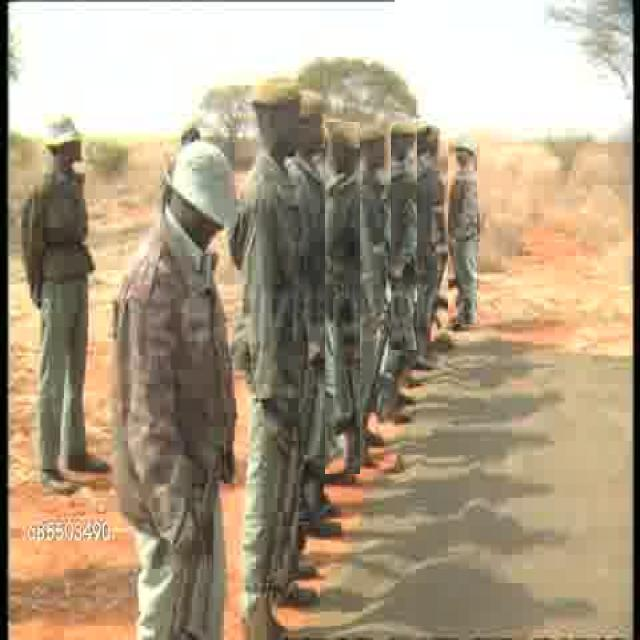poacher: (107, 123, 240, 632), (228, 64, 311, 571), (12, 112, 108, 492), (325, 122, 360, 474), (298, 58, 328, 414), (391, 123, 417, 350), (448, 138, 477, 324)
